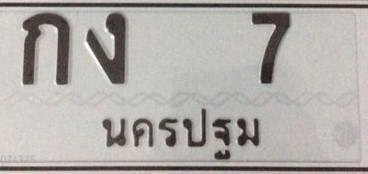txt01: (19, 11, 72, 87)
txt05: (82, 11, 127, 87)
